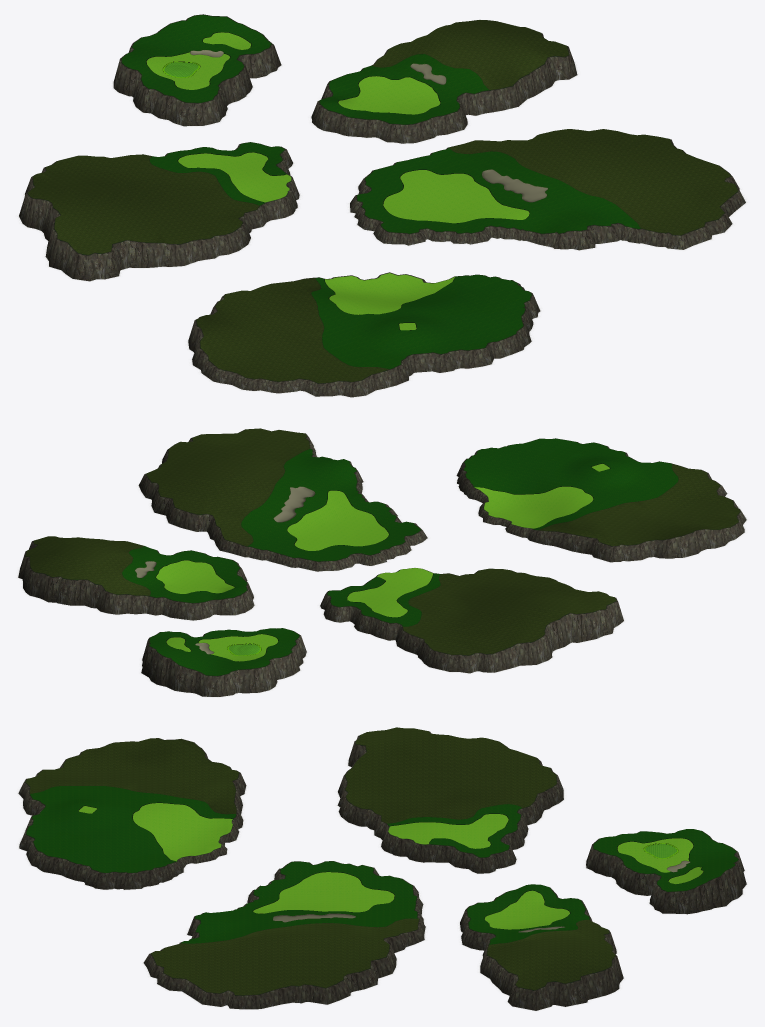
Rendered from glf_course_fc13__glf_course_fc13.glb.
3 views of the same model, one above another, from view 1: azimuth 30°, elevation 25°; view 2: azimuth 150°, elevation 25°; view 3: azimuth 270°, elevation 25° (orthographic). The views are drawn at different scales.
Visible parts, largest first — view 1: polygon37, polygon39, polygon33, polygon31, polygon22, polygon4, polygon0, polygon27, polygon13; view 2: polygon37, polygon33, polygon39, polygon31, polygon22, polygon4, polygon0, polygon27, polygon13; view 3: polygon37, polygon33, polygon39, polygon31, polygon22, polygon4, polygon0, polygon13, polygon27.
Part boxes in pixels (<box>): polygon37: <box>28,20,737,382</box>; polygon39: <box>122,15,640,368</box>; polygon33: <box>19,14,745,397</box>; polygon31: <box>146,32,529,330</box>; polygon22: <box>15,61,747,398</box>; polygon4: <box>27,20,738,383</box>; polygon0: <box>121,14,641,369</box>; polygon27: <box>190,50,547,202</box>; polygon13: <box>146,32,529,330</box>; polygon37: <box>26,428,739,655</box>; polygon33: <box>18,429,746,696</box>; polygon39: <box>122,438,678,675</box>; polygon31: <box>156,464,609,661</box>; polygon22: <box>16,441,749,697</box>; polygon4: <box>25,428,740,655</box>; polygon0: <box>134,438,671,675</box>; polygon27: <box>135,487,314,654</box>; polygon13: <box>155,463,610,661</box>; polygon37: <box>26,727,614,995</box>; polygon33: <box>18,731,746,1010</box>; polygon39: <box>27,786,738,944</box>; polygon31: <box>78,803,703,929</box>; polygon22: <box>16,758,747,1011</box>; polygon4: <box>25,727,615,995</box>; polygon0: <box>26,793,738,944</box>; polygon13: <box>78,802,703,929</box>; polygon27: <box>273,861,689,932</box>.
Size of what is drawn, in the model's own units: 4579 by 228 by 5328.
13 materials, 12 textured.
